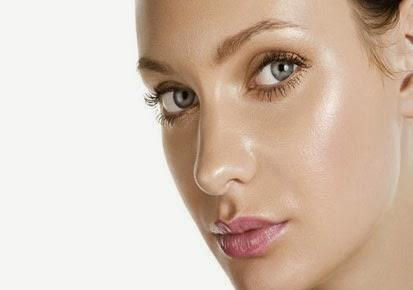Oily-Skin: (313, 45, 346, 152), (271, 0, 302, 38), (198, 165, 230, 183), (241, 134, 258, 161), (213, 75, 225, 102), (284, 191, 298, 208)
